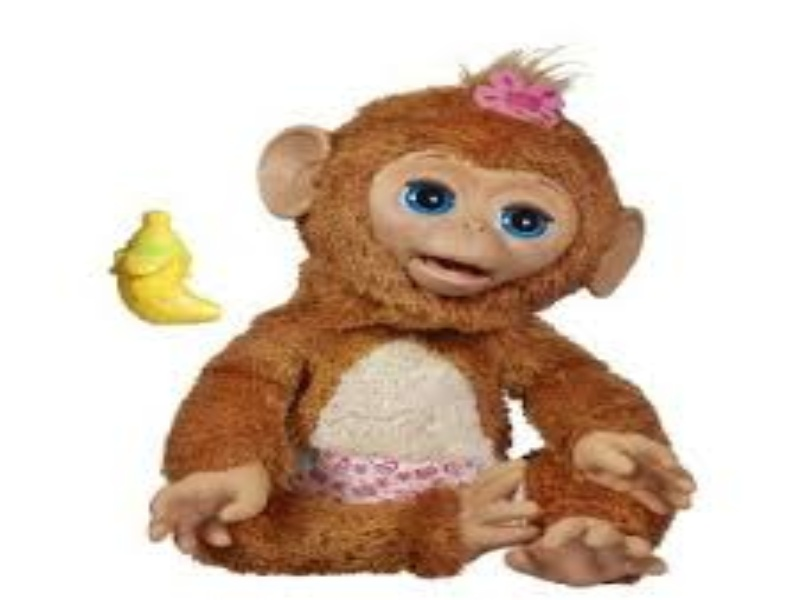monkey: (229, 54, 686, 587)
